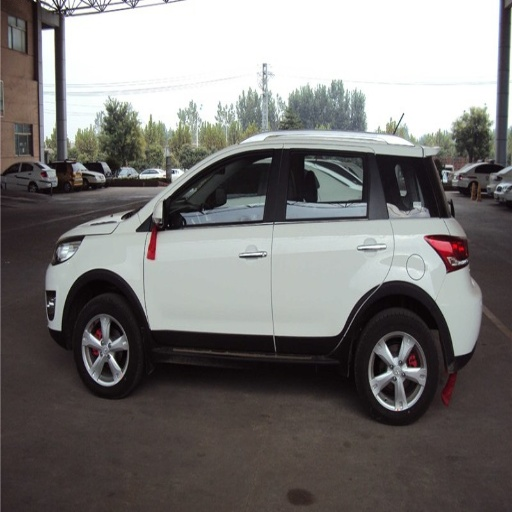back_left_door: (271, 145, 394, 356)
front_left_door: (144, 145, 280, 353)
